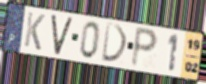0: (78, 20, 101, 61)
1: (167, 34, 179, 74)
D: (100, 22, 129, 65)
K: (23, 11, 46, 53)
P: (129, 25, 160, 70)
V: (50, 14, 74, 56)
